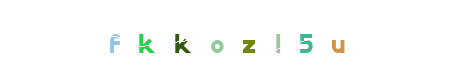1: (195, 0, 275, 80)
5: (253, 0, 333, 80)
F: (104, 0, 184, 80)
K: (119, 0, 199, 80), (140, 0, 220, 80)
O: (189, 0, 269, 80)
U: (298, 0, 378, 80)
Z: (193, 0, 273, 80)
